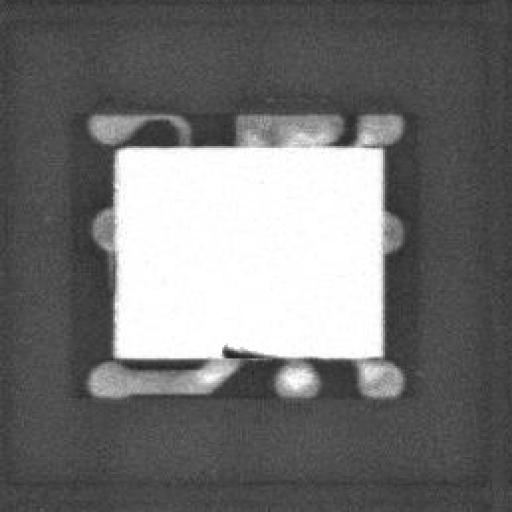DIE_BROKEN: (218, 342, 262, 358)
